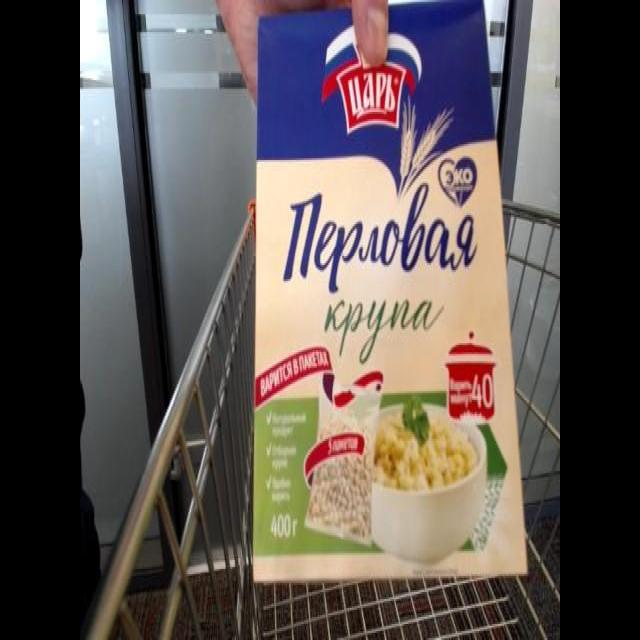Groats: (246, 4, 533, 599)
